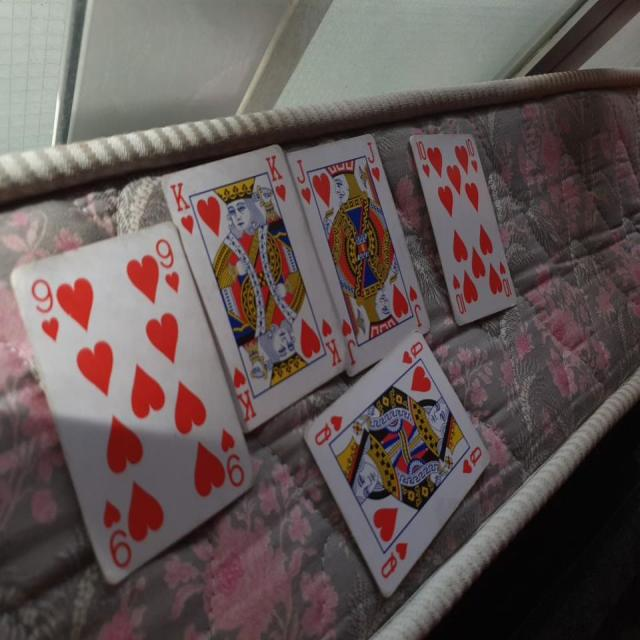10 Hearts: (404, 125, 525, 327)
9 Hearts: (13, 218, 255, 589)
J Hearts: (280, 128, 433, 367)
K Hearts: (156, 140, 345, 426)
Q Hearts: (290, 334, 489, 606)
